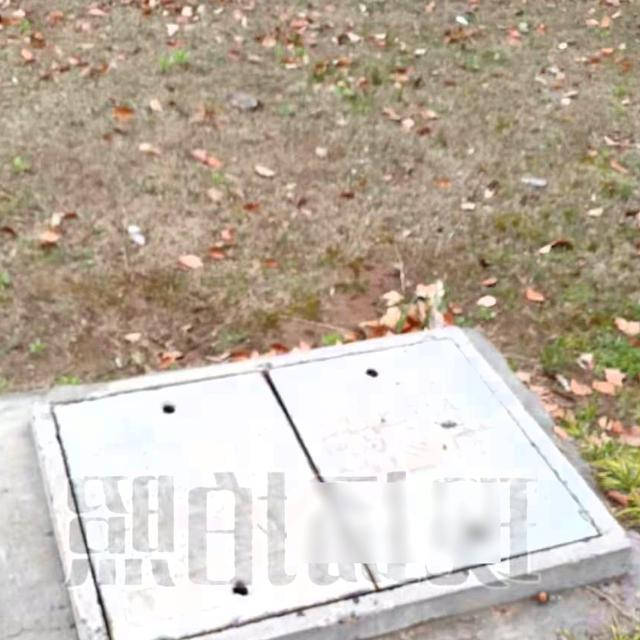good: (32, 326, 633, 640)
